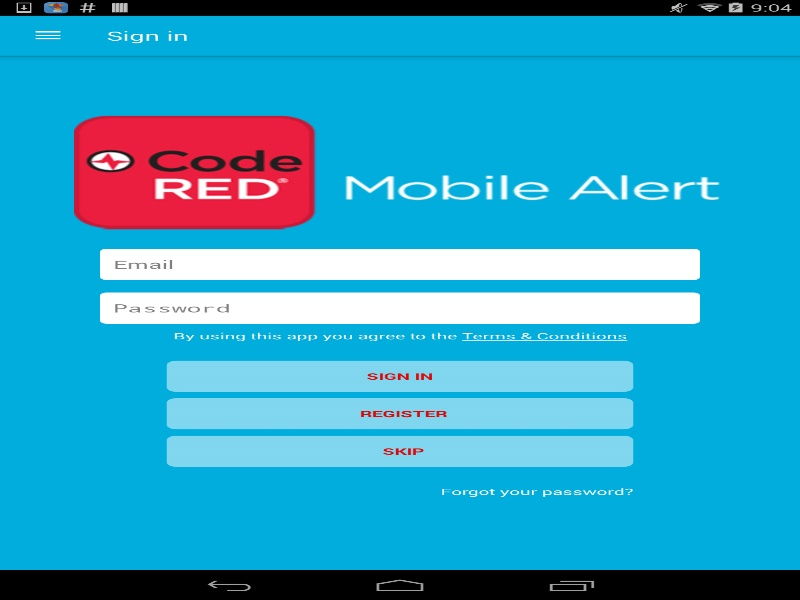Button: (166, 360, 633, 391), (166, 398, 633, 429), (166, 435, 633, 466), (10, 15, 85, 55)
Input: (100, 248, 700, 280), (100, 292, 700, 323)
